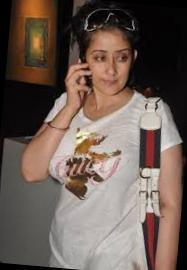Drunk: (87, 31, 132, 95)
